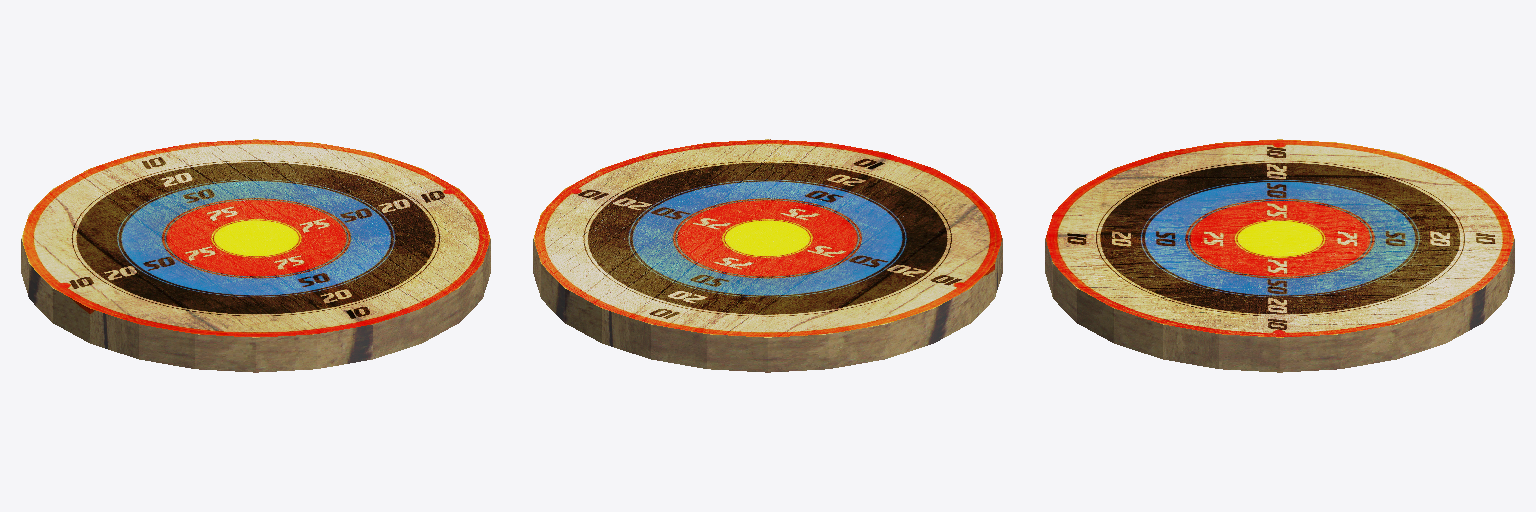
3 views of the same model, side by side, from view 1: azimuth 30°, elevation 25°; view 2: azimuth 150°, elevation 25°; view 3: azimuth 270°, elevation 25° (orthographic).
Visible parts, largest first — view 1: Target_Circle; view 2: Target_Circle; view 3: Target_Circle.
Boxes of the visible parts, <box> form: Target_Circle: <box>21,139,490,372</box>; Target_Circle: <box>533,139,1002,372</box>; Target_Circle: <box>1045,139,1514,372</box>.
Size of the model in its own units: 2 by 0.1645 by 2.
Materials: 1 (1 with a texture image).